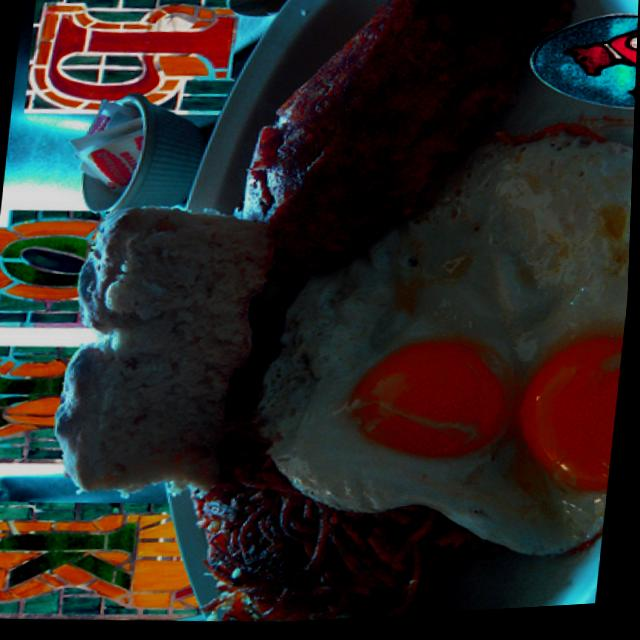鸡蛋料理: (270, 139, 635, 583)
